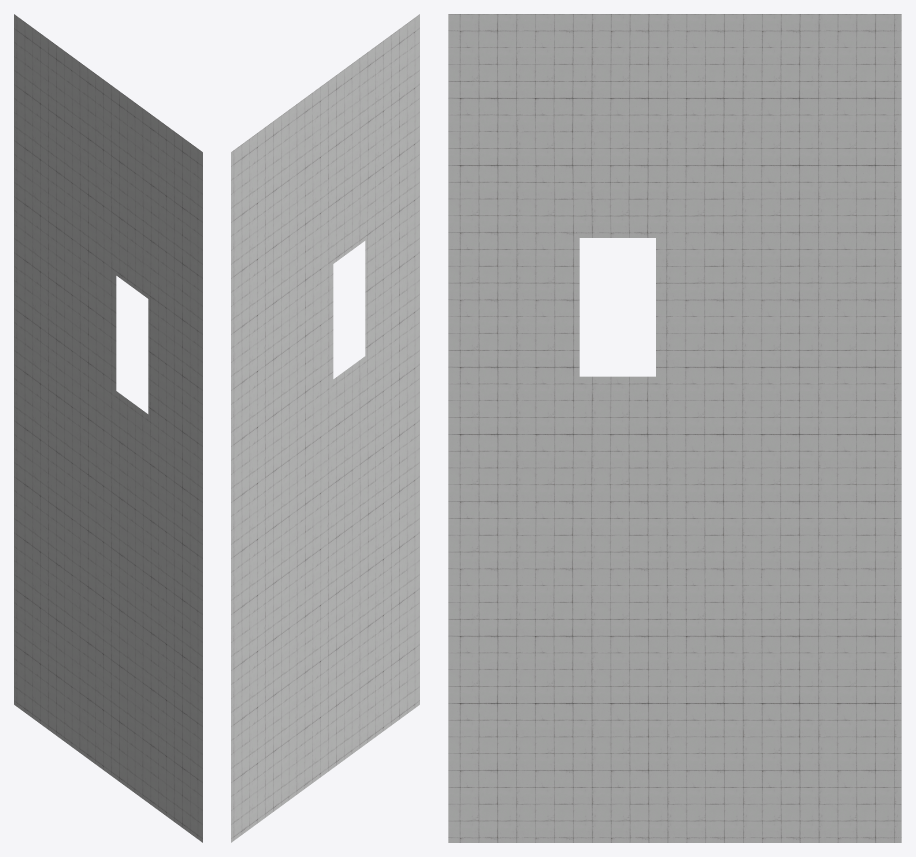
The picture shows the model from 3 angles, left to right: view 1: azimuth 30°, elevation 25°; view 2: azimuth 150°, elevation 25°; view 3: azimuth 270°, elevation 25°; orthographic projection. The views are drawn at different scales.
Parts seen in each view (by area): view 1: S_C_02_01_R.001; view 2: S_C_02_01_R.001; view 3: S_C_02_01_R.001.
Boxes of the visible parts, x1,y1,x2,y2 form: S_C_02_01_R.001: (14,14,202,842); S_C_02_01_R.001: (231,14,419,842); S_C_02_01_R.001: (448,14,901,842).
Size of the model in its own units: 0 by 15.19 by 30.64.
